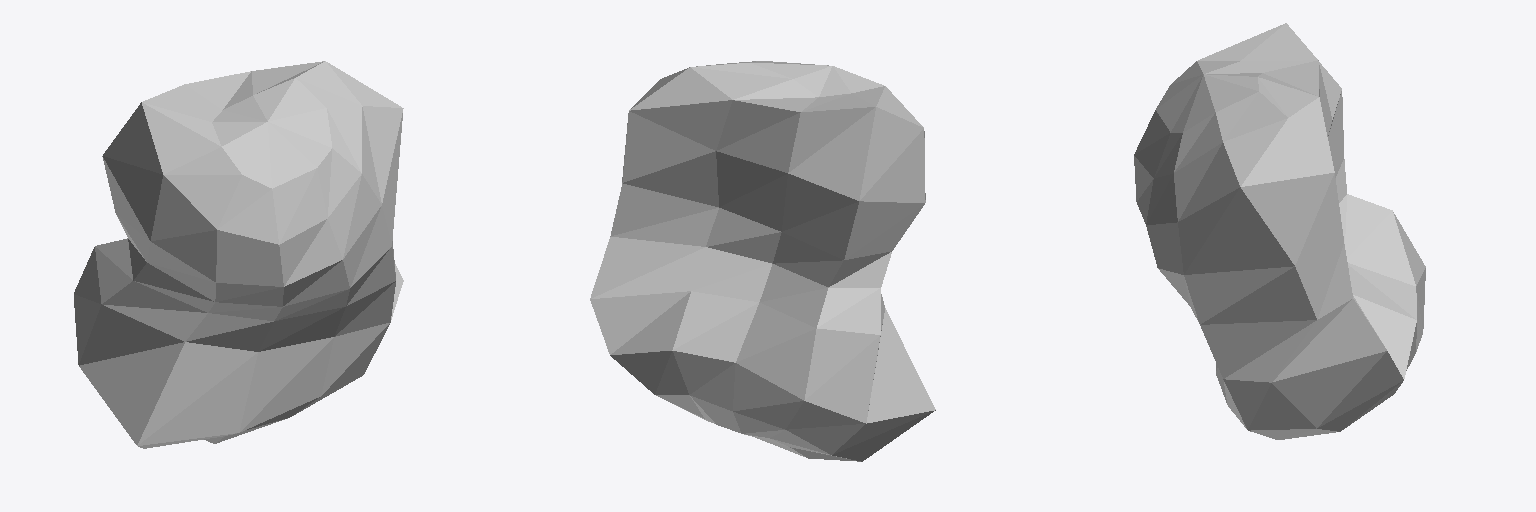
File: PaperScrunch_001.obj
3 views of the same model, side by side, from view 1: azimuth 30°, elevation 25°; view 2: azimuth 150°, elevation 25°; view 3: azimuth 270°, elevation 25° (orthographic).
Visible parts, largest first — view 1: PaperScrunch_001 Paper_Group; view 2: PaperScrunch_001 Paper_Group; view 3: PaperScrunch_001 Paper_Group.
Part boxes in pixels (bbox=[...]): PaperScrunch_001 Paper_Group: bbox=[74, 61, 403, 448]; PaperScrunch_001 Paper_Group: bbox=[590, 61, 935, 461]; PaperScrunch_001 Paper_Group: bbox=[1134, 23, 1425, 439].
Bounding box in the file's own units: 7.78 × 9.26 × 6.86.